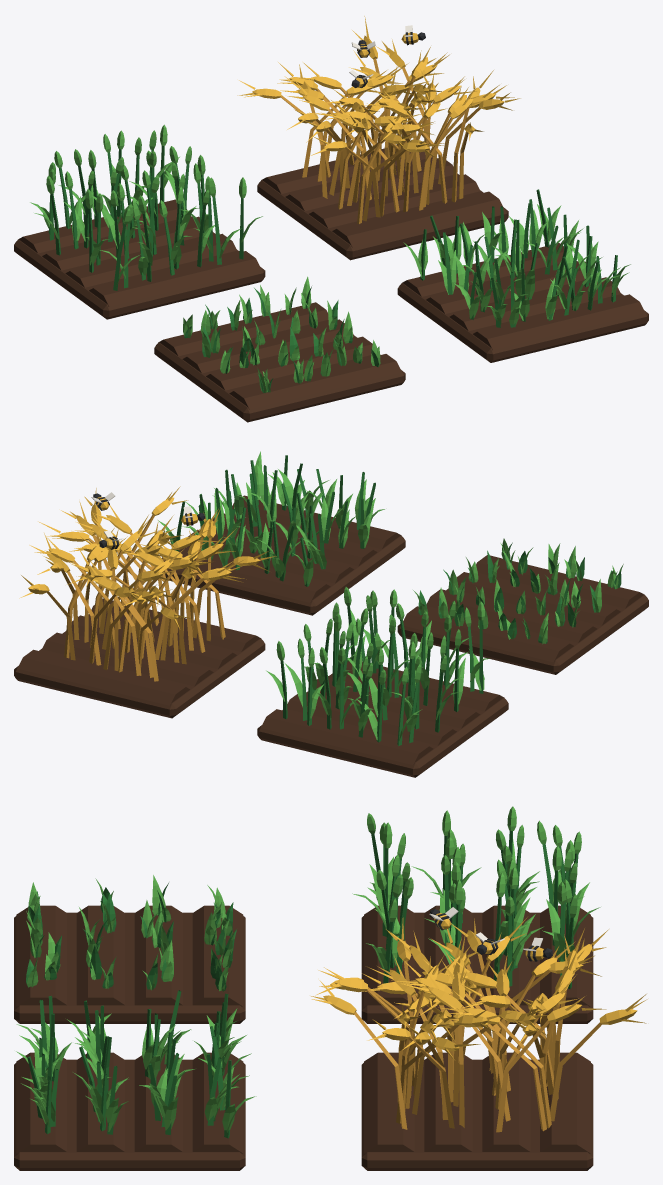
Rendered from wheat-growth-stages.glb.
3 renders of one model, top to bottom at view 1: azimuth 30°, elevation 25°; view 2: azimuth 150°, elevation 25°; view 3: azimuth 270°, elevation 25°, orthographic. The views are drawn at different scales.
Parts seen in each view (by area): view 1: Wheat_Stage4, Wheat_Stage3, Wheat_Stage2, Wheat_Stage1; view 2: Wheat_Stage4, Wheat_Stage3, Wheat_Stage2, Wheat_Stage1; view 3: Wheat_Stage4, Wheat_Stage2, Wheat_Stage1, Wheat_Stage3.
Boxes of the visible parts, <box> form: Wheat_Stage4: <box>237,16,520,260</box>; Wheat_Stage3: <box>14,124,265,319</box>; Wheat_Stage2: <box>397,189,648,362</box>; Wheat_Stage1: <box>154,276,405,422</box>; Wheat_Stage4: <box>14,486,276,718</box>; Wheat_Stage3: <box>257,587,508,777</box>; Wheat_Stage2: <box>158,451,405,615</box>; Wheat_Stage1: <box>397,538,648,674</box>; Wheat_Stage4: <box>311,917,647,1170</box>; Wheat_Stage2: <box>14,990,256,1170</box>; Wheat_Stage1: <box>14,875,245,1023</box>; Wheat_Stage3: <box>352,806,600,1023</box>.
Bounding box in the file's own units: 10.94 × 3.95 × 10.96.
